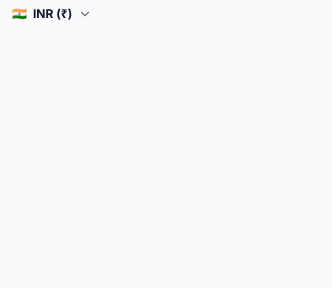
Test: CurrencySelect Component › excludes INR from the dropdown list when INR is currently selected
Click to open dropdown
Step 1. Click the button "🇮🇳 INR (₹)" → point(52, 14), box [12,6,92,22]
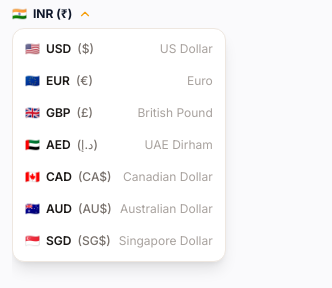
Result: the list is shown at [12,28,226,262]
Result: the option "🇺🇸 USD ($) US Dollar" is shown at [13,33,225,65]
Result: the option "🇪🇺 EUR (€) Euro" is shown at [13,65,225,97]
